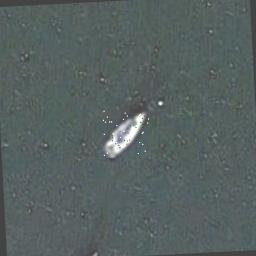boat: (100, 108, 150, 157)
